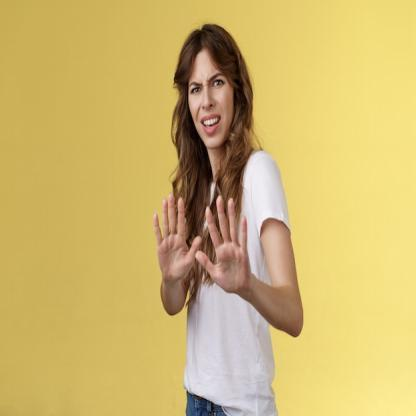stop: (197, 195, 254, 290), (150, 194, 200, 286)
